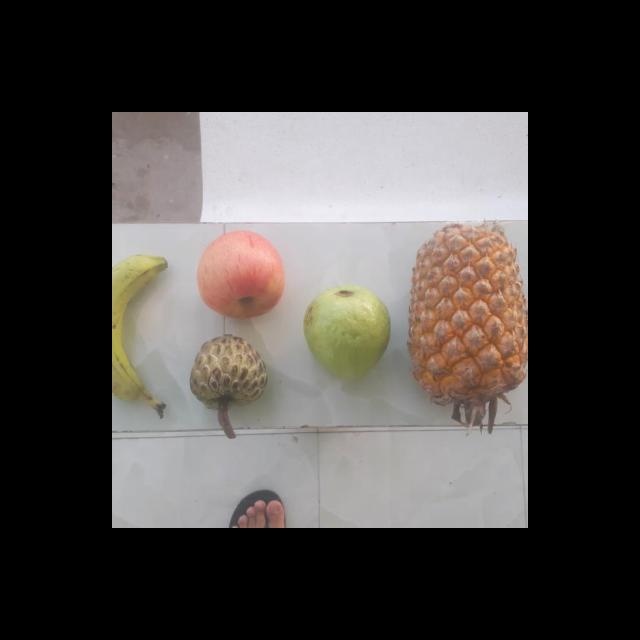Sakya fruit: (188, 335, 270, 412)
apple: (192, 230, 290, 320)
banana: (112, 254, 170, 410)
guava: (304, 286, 395, 380)
pineapple: (408, 225, 528, 412)
